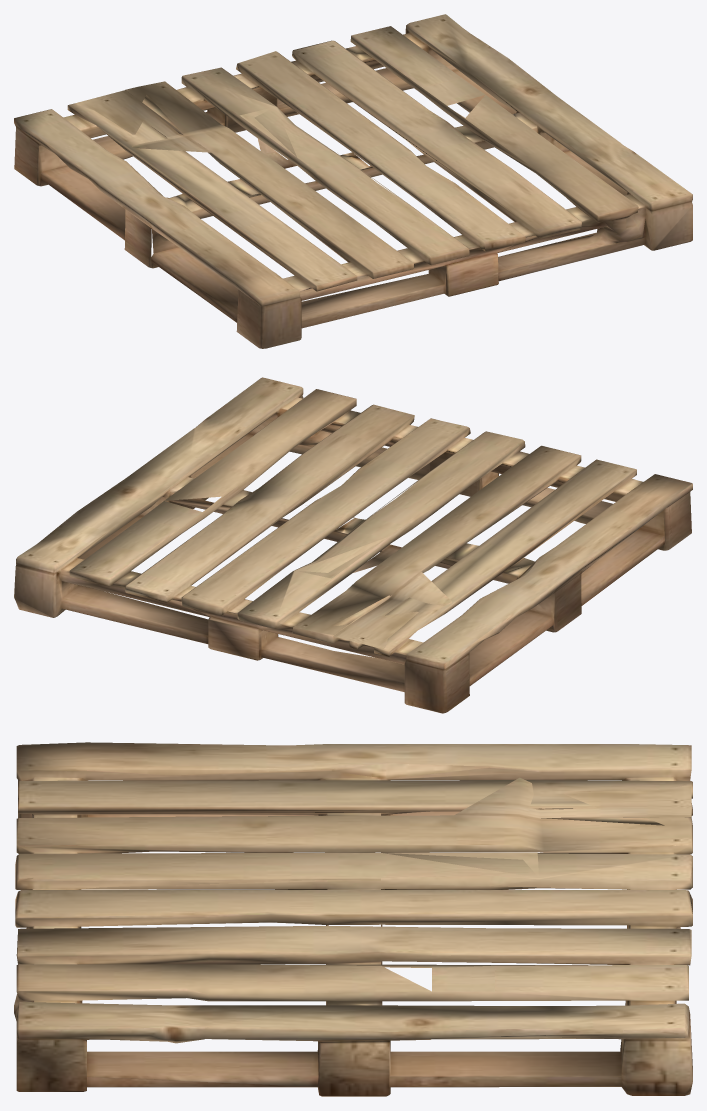
The model's file is pallet.glb.
3 views of the same model, one above another, from view 1: azimuth 30°, elevation 25°; view 2: azimuth 150°, elevation 25°; view 3: azimuth 270°, elevation 25° (orthographic). The views are drawn at different scales.
Visible parts, largest first — view 1: tripo_node_52e99544-ed0a-444e-a09d-7376ec0296ac; view 2: tripo_node_52e99544-ed0a-444e-a09d-7376ec0296ac; view 3: tripo_node_52e99544-ed0a-444e-a09d-7376ec0296ac.
Part boxes in pixels (<box>): tripo_node_52e99544-ed0a-444e-a09d-7376ec0296ac: <box>14,14,692,348</box>; tripo_node_52e99544-ed0a-444e-a09d-7376ec0296ac: <box>14,377,692,713</box>; tripo_node_52e99544-ed0a-444e-a09d-7376ec0296ac: <box>14,742,692,1096</box>.
Size of the model in its own units: 1.2 by 0.144 by 1.2.
Materials: 1 (1 with a texture image).
